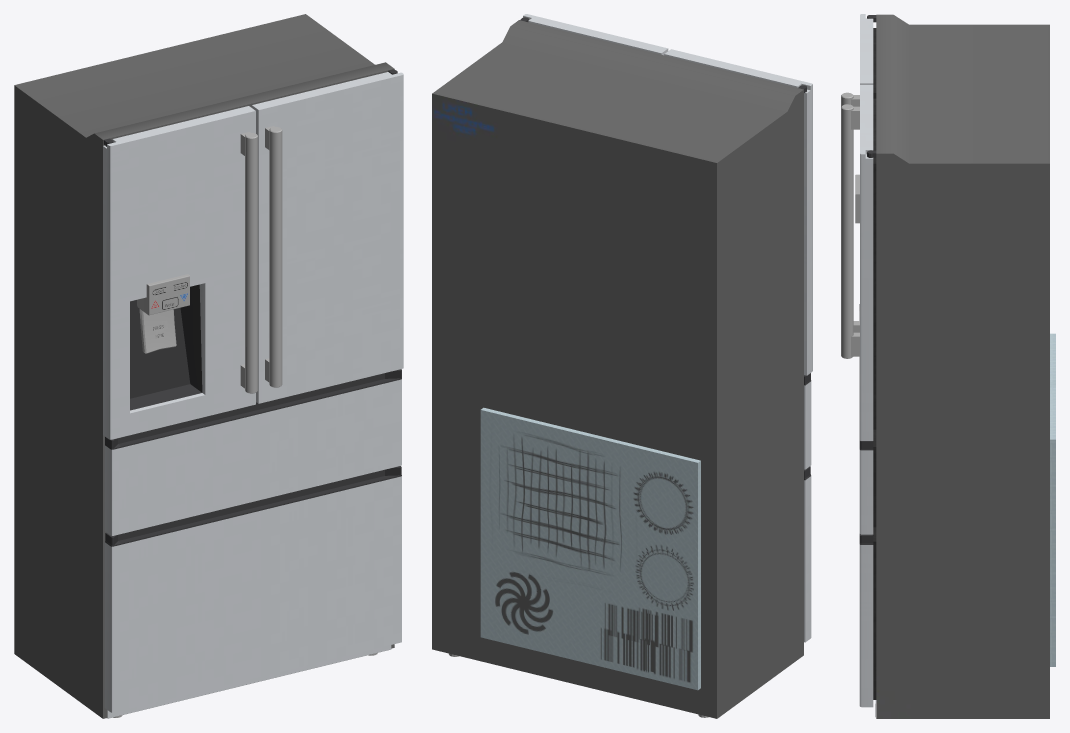
Rendered from french_door_fridge.glb.
The picture shows the model from 3 angles, left to right: view 1: azimuth 30°, elevation 25°; view 2: azimuth 150°, elevation 25°; view 3: azimuth 270°, elevation 25°; orthographic projection. The views are drawn at different scales.
Parts seen in each view (by area): view 1: pCube17_Fridge_Stainless_0, pCube17_Fridge_Body_0, pCube17_Fridge_Plastic_0, pCube17_Fridge_Brushed_0; view 2: pCube17_Fridge_Body_0, pCube17_Fridge_Radiator_0, pCube17_Fridge_Stainless_0; view 3: pCube17_Fridge_Body_0, pCube17_Fridge_Stainless_0, pCube17_Fridge_Brushed_0, pCube17_Fridge_Gasket_0, pCube17_Fridge_Radiator_0, pCube17_Fridge_Plastic_0.
Boxes of the visible parts, box(x1,y1,x2,y2) form: pCube17_Fridge_Stainless_0: box(103, 72, 403, 718); pCube17_Fridge_Body_0: box(14, 14, 394, 718); pCube17_Fridge_Plastic_0: box(103, 69, 401, 546); pCube17_Fridge_Brushed_0: box(113, 126, 377, 717); pCube17_Fridge_Body_0: box(432, 20, 803, 718); pCube17_Fridge_Radiator_0: box(480, 407, 700, 690); pCube17_Fridge_Stainless_0: box(523, 14, 812, 642); pCube17_Fridge_Body_0: box(876, 14, 1049, 718); pCube17_Fridge_Stainless_0: box(859, 14, 875, 717); pCube17_Fridge_Brushed_0: box(841, 92, 859, 358); pCube17_Fridge_Gasket_0: box(873, 28, 876, 699); pCube17_Fridge_Radiator_0: box(1050, 333, 1055, 666); pCube17_Fridge_Plastic_0: box(859, 15, 876, 544).
Size of the model in its own units: 0.9596 by 1.82 by 0.6206.
Materials: 6 (5 with a texture image).
